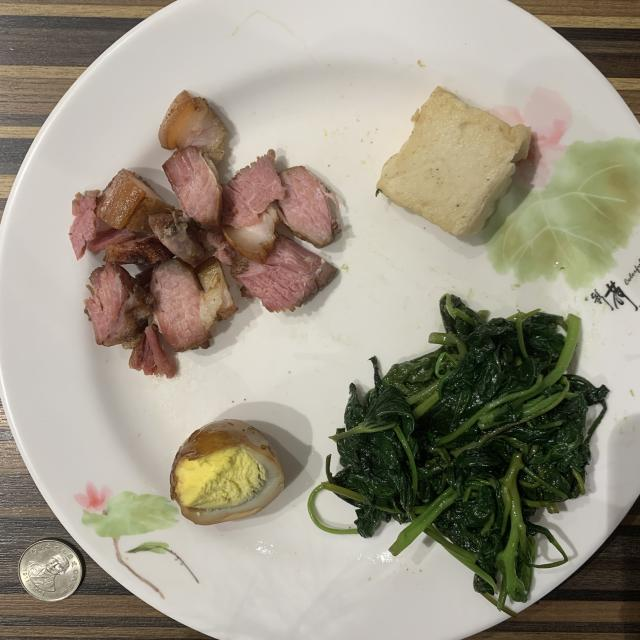coin: (19, 539, 82, 601)
creamy tofu -without sauce-: (378, 88, 531, 235)
grilled pork: (70, 91, 340, 378)
soy egg: (170, 419, 284, 525)
sweet potato leaves: (309, 295, 609, 610)
